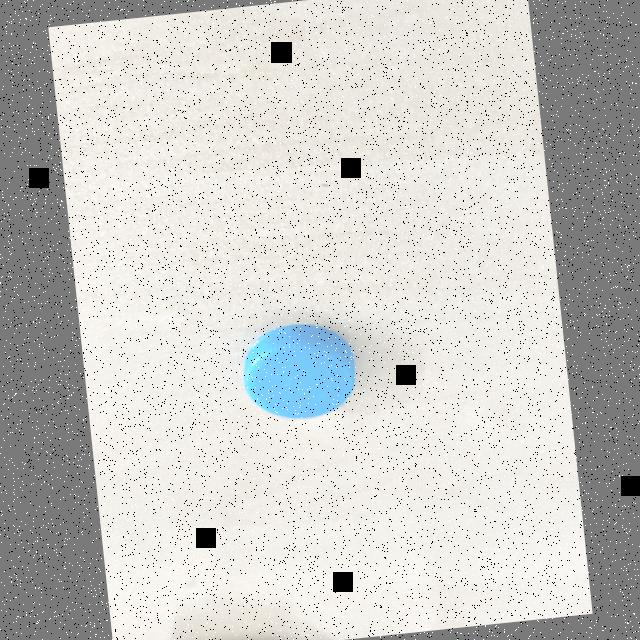plastic_bottle_cap: (230, 311, 367, 438)
